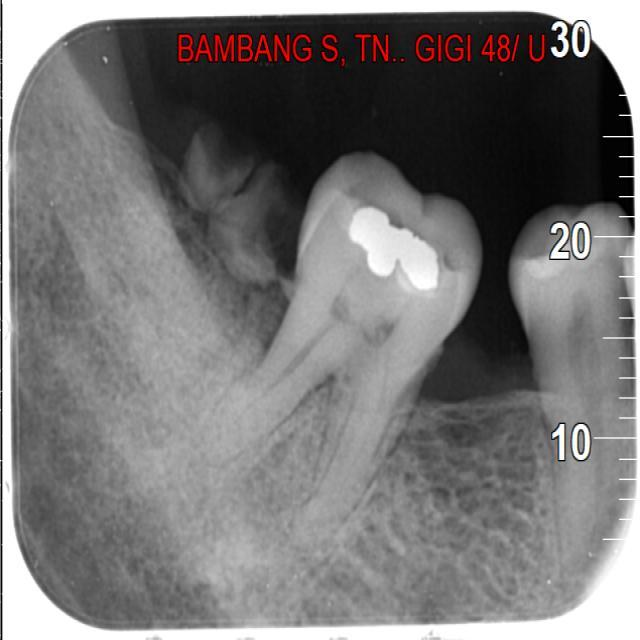individual-tooth-8tto: (206, 156, 478, 550)
